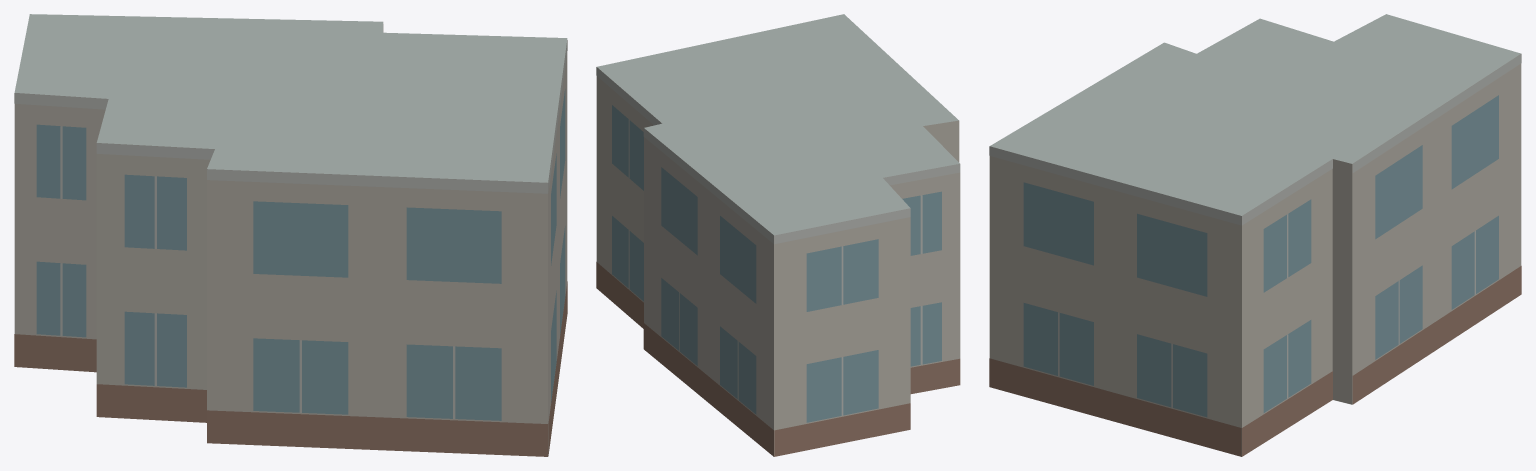
Rendered from survey-upis-33019510.glb.
The picture shows the model from 3 angles, left to right: view 1: azimuth 30°, elevation 25°; view 2: azimuth 150°, elevation 25°; view 3: azimuth 270°, elevation 25°; orthographic projection. The views are drawn at different scales.
Visible parts, largest first — view 1: survey-upis-33019510.tmp; view 2: survey-upis-33019510.tmp; view 3: survey-upis-33019510.tmp.
Boxes of the visible parts, left/top/right/bottom form: survey-upis-33019510.tmp: left=14, top=14, right=567, bottom=456; survey-upis-33019510.tmp: left=596, top=14, right=960, bottom=456; survey-upis-33019510.tmp: left=989, top=14, right=1521, bottom=456.
Bounding box in the file's own units: 10.98 × 6.1 × 12.21.
